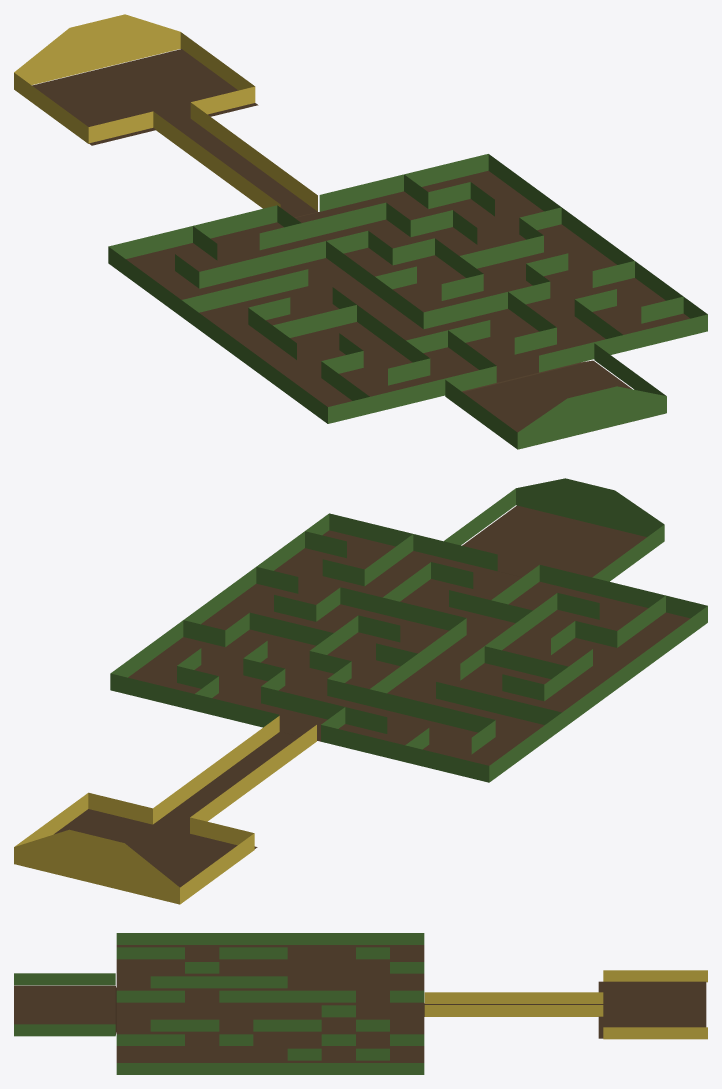
File: mazeMed.glb
3 renders of one model, top to bottom at view 1: azimuth 30°, elevation 25°; view 2: azimuth 150°, elevation 25°; view 3: azimuth 270°, elevation 25°, orthographic. The views are drawn at different scales.
Visible parts, largest first — view 1: Walls, Ground.001, Winning Walls, Ground Win; view 2: Walls, Ground.001, Winning Walls, Ground Win; view 3: Ground.001, Walls, Winning Walls, Ground Win.
Part boxes in pixels (box(x1,y1,x2,y2)): Walls: box(108, 154, 707, 449); Ground.001: box(126, 170, 689, 432); Winning Walls: box(14, 14, 317, 211); Ground Win: box(32, 49, 317, 217); Walls: box(110, 478, 707, 782); Ground.001: box(128, 505, 690, 765); Winning Walls: box(14, 716, 316, 904); Ground Win: box(54, 732, 299, 887); Ground.001: box(14, 945, 424, 1062); Walls: box(14, 933, 424, 1074); Winning Walls: box(424, 970, 707, 1039); Ground Win: box(424, 981, 706, 1038).
Bounding box in the file's own units: 5.88 × 0.7107 × 13.25.
